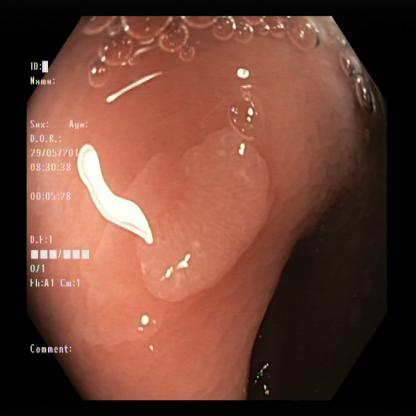Labels: (30, 56, 96, 357)
Polyps: (130, 156, 276, 302)
